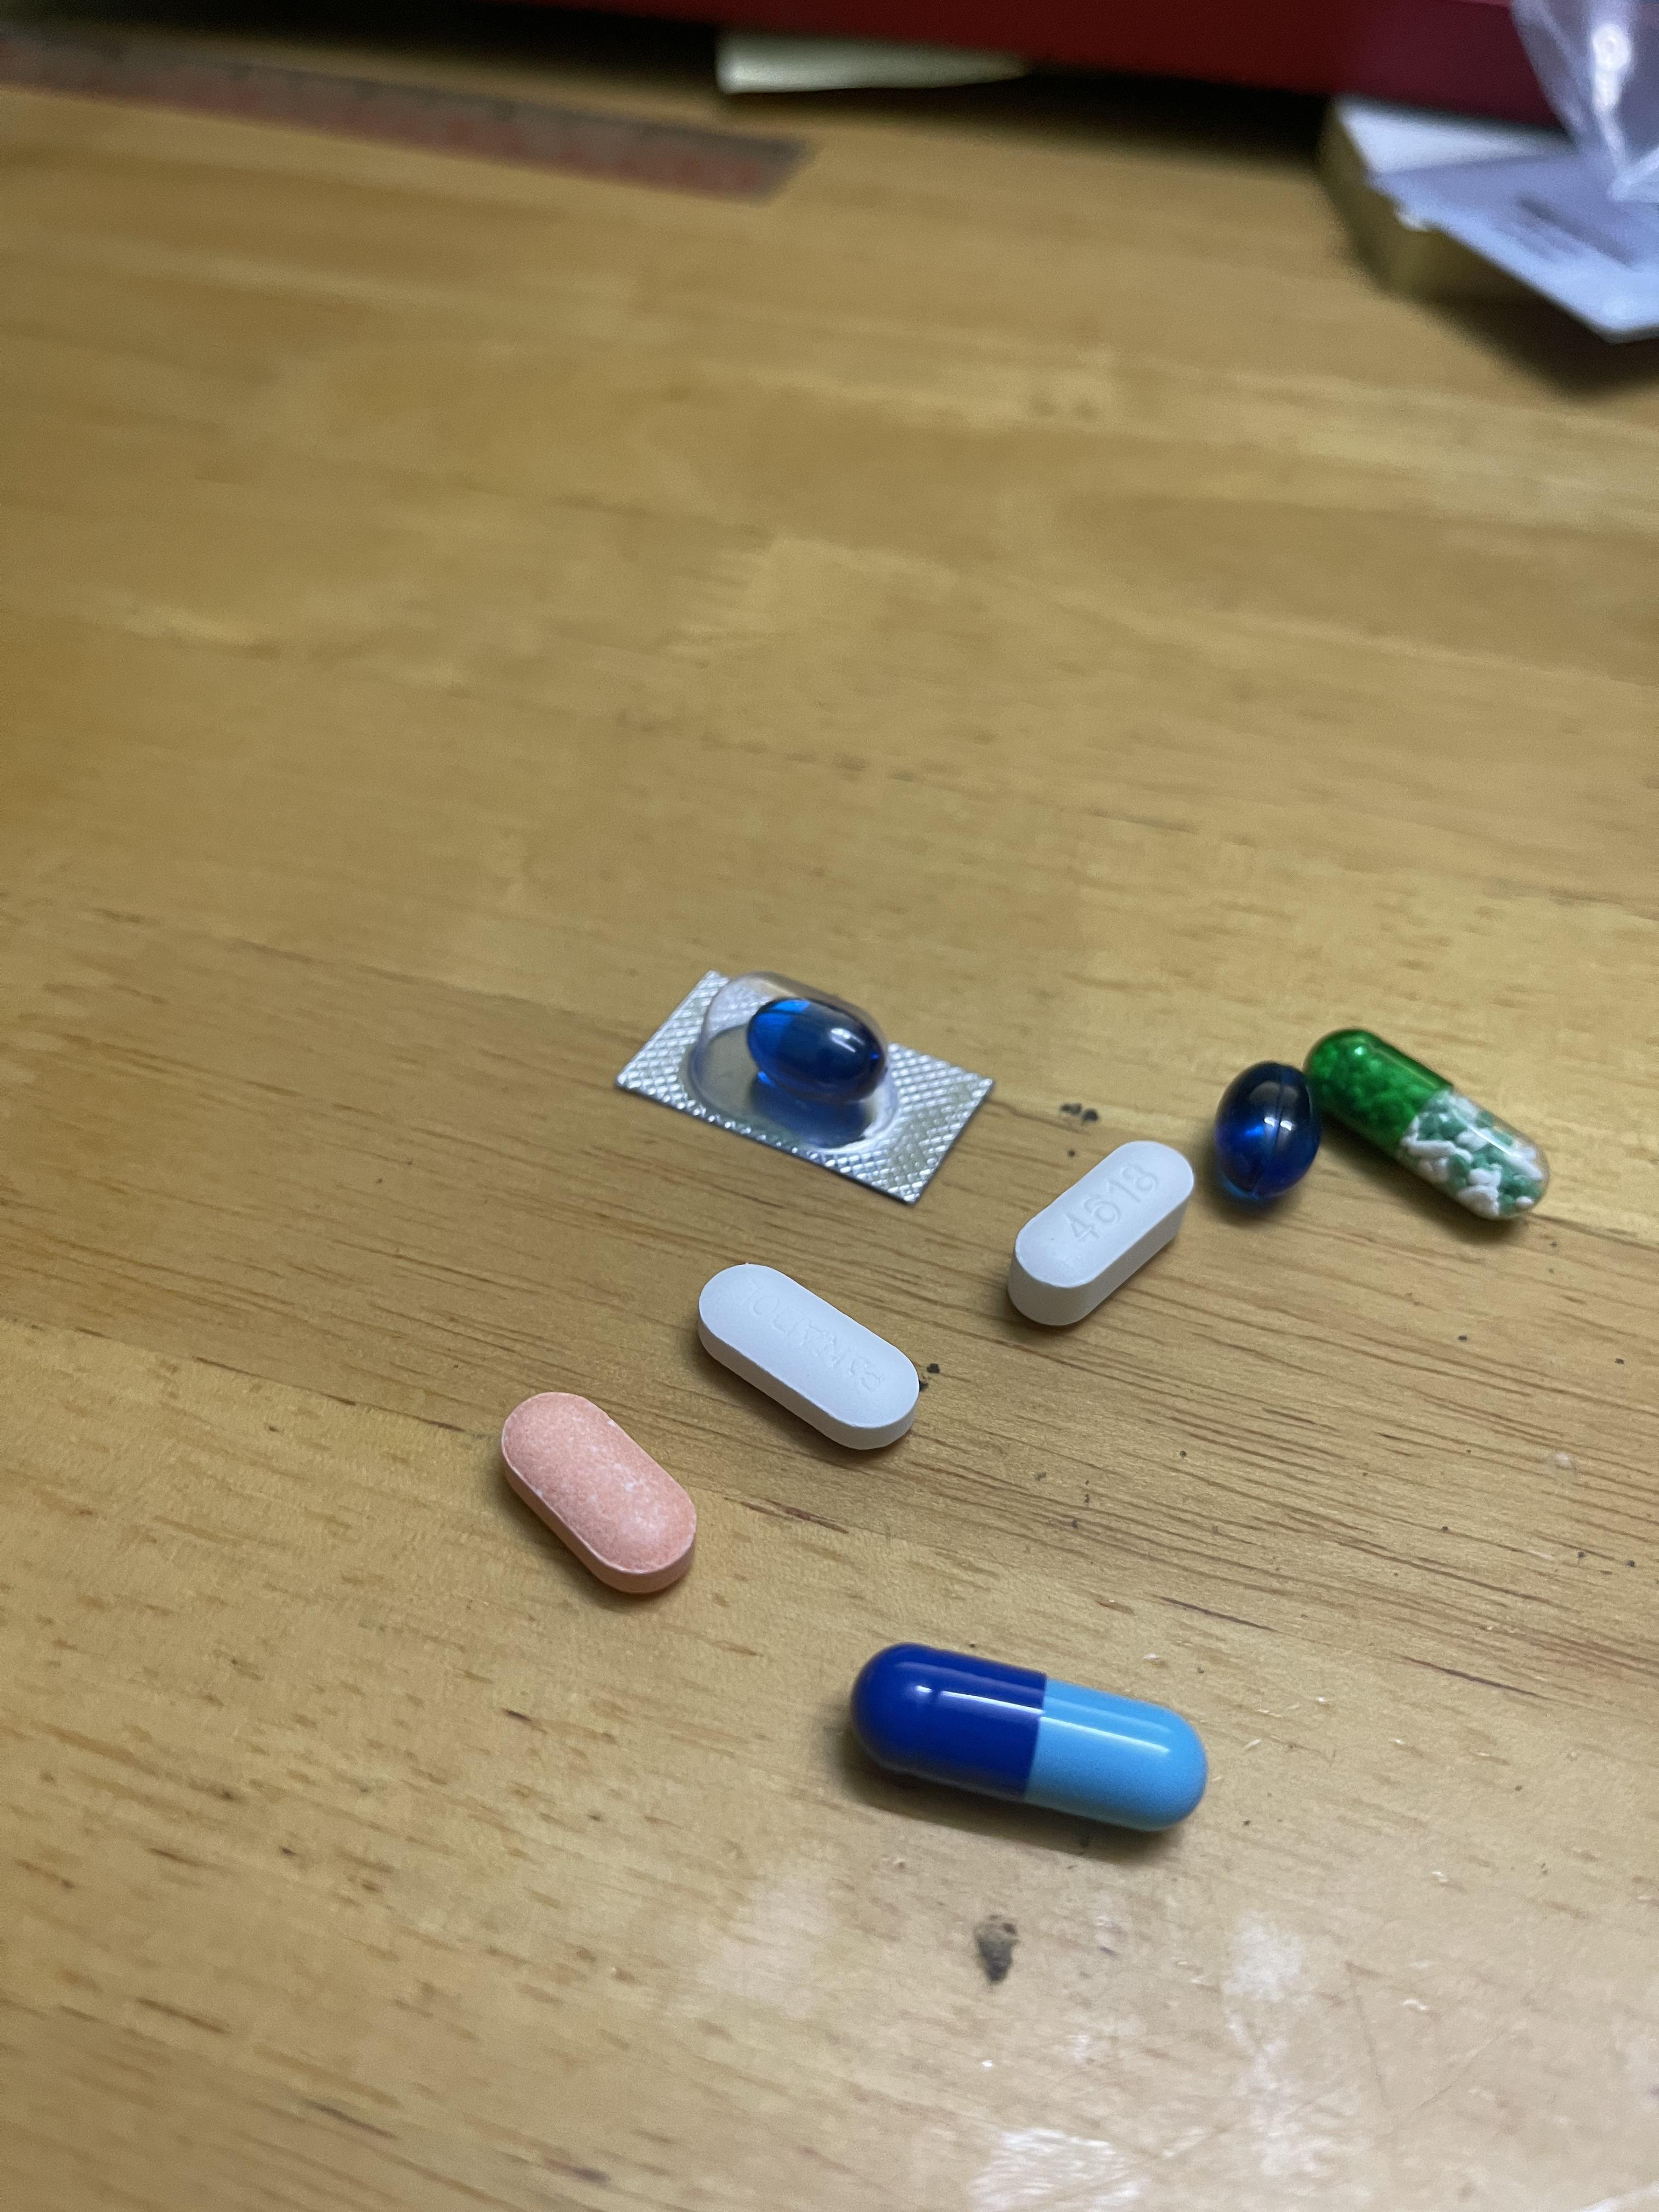Lincomyxin_500mg: (746, 991, 894, 1104), (1211, 1059, 1316, 1200)
Loratadine_10mg: (498, 1392, 694, 1590)
Paracetamol_350mg: (701, 1266, 918, 1440)
Paracetamol_500mg: (1014, 1134, 1195, 1301)
Paracetamol_650mg: (1309, 1035, 1544, 1212)
pill: (861, 1656, 1195, 1825)
